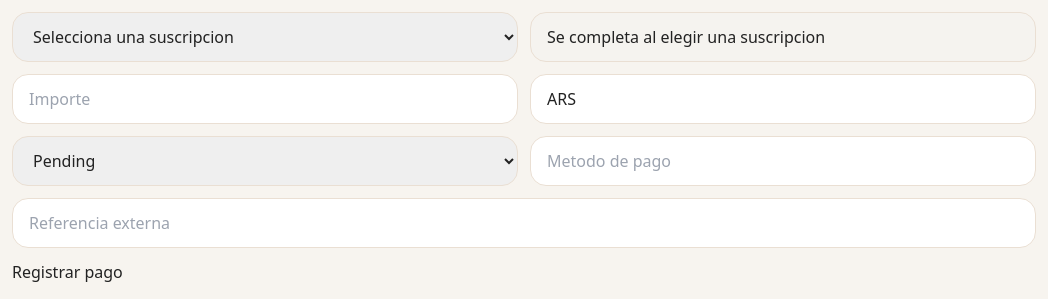
it: PaymentForm › derives the account user id from the selected subscription
Select "Plan Base · 22222222-2222-2222-2222-222222222222" in the 1st dropdown named "subscriptionId" at (265,37), box top-left (12, 12), bottom-right (518, 62)
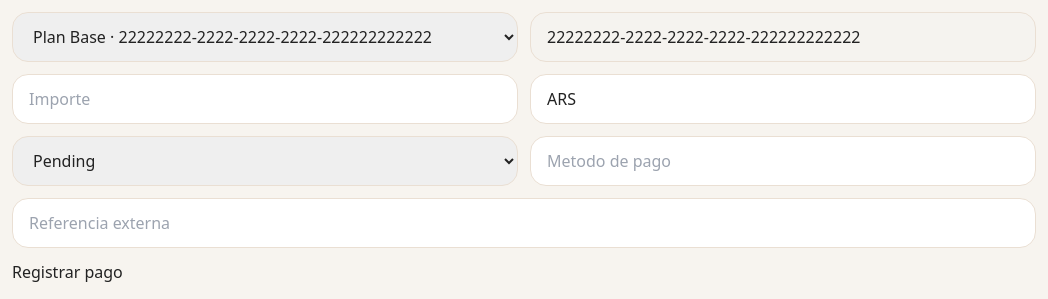
Expected: the 1st field with placeholder "Cuenta asociada" is disabled, top-left (530, 12), bottom-right (1036, 62)
Expected: the 1st field with placeholder "Cuenta asociada" holds "22222222-2222-2222-2222-222222222222", top-left (530, 12), bottom-right (1036, 62)
